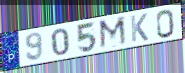0: (49, 27, 71, 57), (155, 8, 176, 39)
5: (76, 20, 99, 54)
9: (25, 32, 44, 62)
K: (129, 12, 150, 44)
M: (98, 15, 129, 51)
